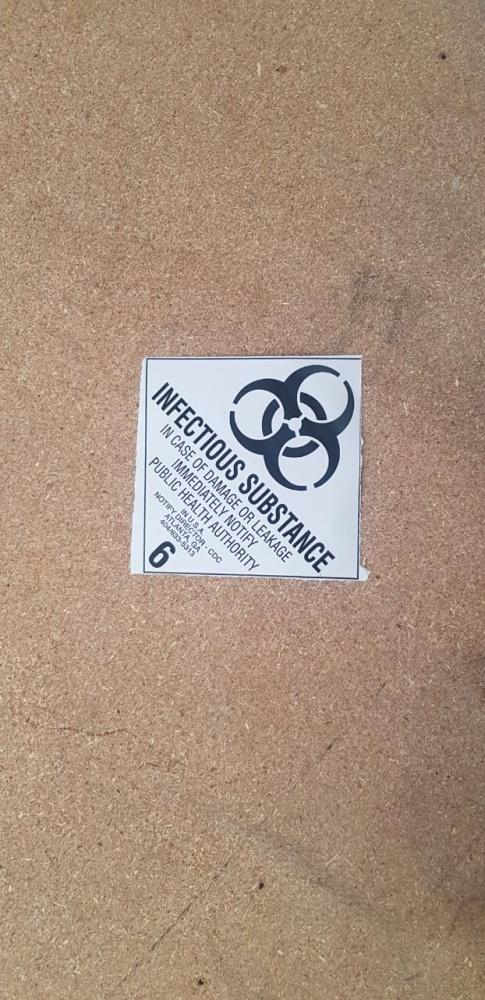infectious-substance: (139, 355, 361, 580)
